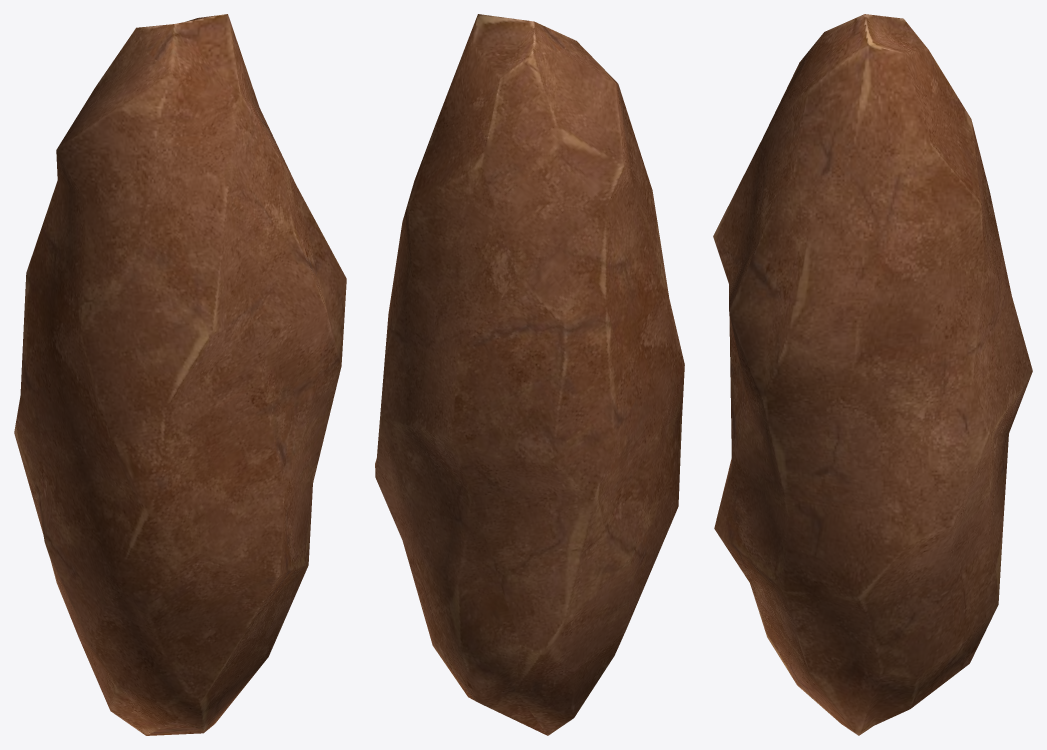
File: stoneOne.glb
The picture shows the model from 3 angles, left to right: view 1: azimuth 30°, elevation 25°; view 2: azimuth 150°, elevation 25°; view 3: azimuth 270°, elevation 25°; orthographic projection.
Parts seen in each view (by area): view 1: Big_stones_01; view 2: Big_stones_01; view 3: Big_stones_01.
Part boxes in pixels (x1,y1,x2,y2): Big_stones_01: (14, 14, 346, 735); Big_stones_01: (375, 14, 684, 735); Big_stones_01: (713, 14, 1032, 735).
Bounding box in the file's own units: 0.4991 × 1.33 × 0.5421.
Materials: 1 (1 with a texture image).
